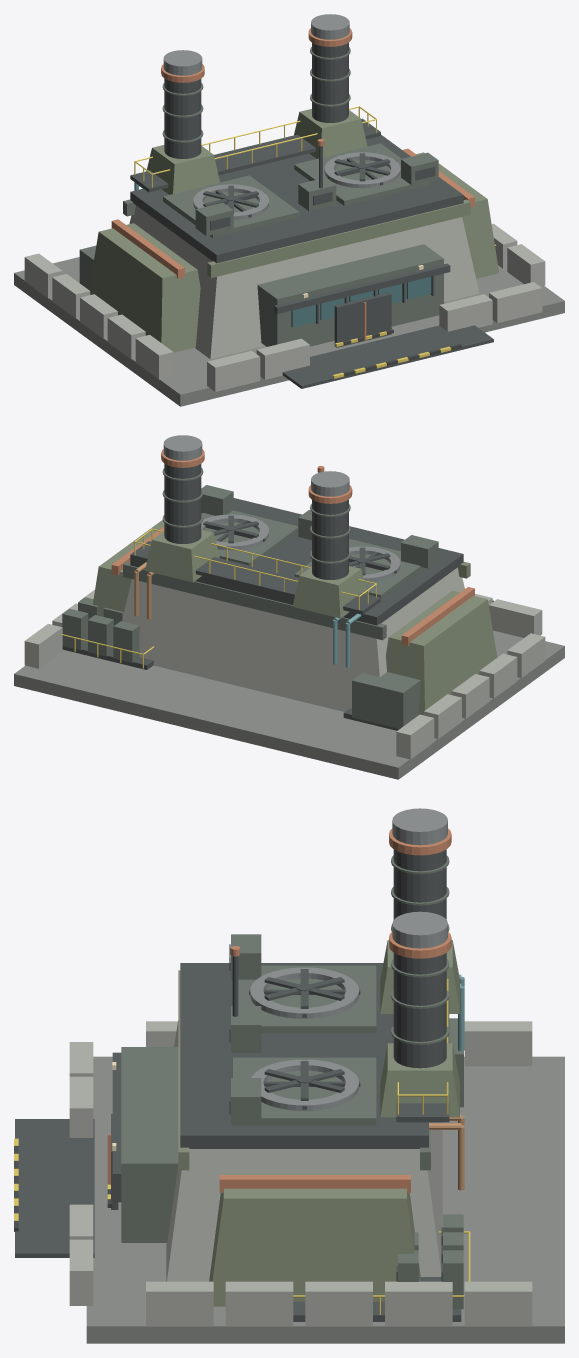
The model's file is aegis_field_power_node_v1.glb.
The picture shows the model from 3 angles, top to bottom: view 1: azimuth 30°, elevation 25°; view 2: azimuth 150°, elevation 25°; view 3: azimuth 270°, elevation 25°; orthographic projection. The views are drawn at different scales.
Visible parts, largest first — view 1: Static_steel_dark, Static_concrete, Static_team_primary, Static_team_secondary, Static_concrete_dark, Static_steel, Static_team_accent, Static_glass, Static_yellow, CoolingFan_2, CoolingFan_1; view 2: Static_concrete, Static_concrete_dark, Static_team_secondary, Static_steel_dark, Static_team_primary, Static_steel, Static_team_accent, Static_yellow, CoolingFan_2, Static_coolant, Static_copper, CoolingFan_1; view 3: Static_concrete_dark, Static_steel_dark, Static_concrete, Static_team_secondary, Static_team_primary, Static_steel, Static_team_accent, CoolingFan_1, CoolingFan_2, Static_yellow, Static_copper.
Boxes of the visible parts, x1,y1,x2,y2 form: Static_steel_dark: (130,42,493,388); Static_concrete: (24,205,545,391); Static_team_primary: (89,109,498,352); Static_team_secondary: (79,47,443,346); Static_concrete_dark: (14,257,564,406); Static_steel: (163,14,400,220); Static_team_accent: (111,28,474,340); Static_glass: (291,276,431,327); Static_yellow: (134,106,496,378); CoolingFan_2: (334,153,390,181); CoolingFan_1: (203,185,258,212); Static_concrete: (24,567,545,759); Static_concrete_dark: (14,630,564,779); Static_team_secondary: (62,468,438,728); Static_steel_dark: (62,463,493,730); Static_team_primary: (93,520,497,715); Static_steel: (163,435,400,582); Static_team_accent: (111,449,474,646); Static_yellow: (60,528,376,668); CoolingFan_2: (203,515,258,543); Static_coolant: (333,613,361,667); Static_copper: (134,562,154,619); CoolingFan_1: (349,547,390,575); Static_concrete_dark: (86,1056,564,1343); Static_steel_dark: (15,849,461,1321); Static_concrete: (69,1020,532,1326); Static_team_secondary: (121,855,463,1309); Static_team_primary: (178,940,459,1306); Static_steel: (250,808,447,1110); Static_team_accent: (107,828,451,1192); CoolingFan_1: (264,969,344,1008); CoolingFan_2: (264,1061,344,1100); Static_yellow: (14,978,470,1314); Static_copper: (429,1114,464,1190).
Bounding box in the file's own units: 24.1 × 13.99 × 20.74.
